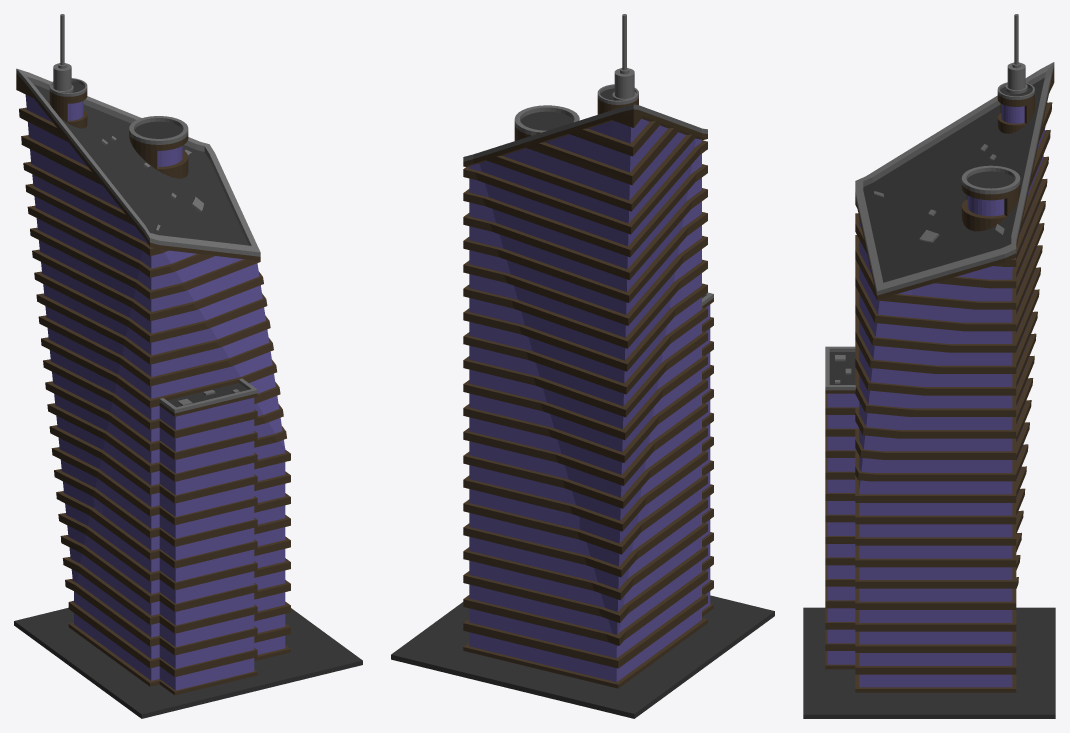
The picture shows the model from 3 angles, left to right: view 1: azimuth 30°, elevation 25°; view 2: azimuth 150°, elevation 25°; view 3: azimuth 270°, elevation 25°; orthographic projection. The views are drawn at different scales.
Visible parts, largest first — view 1: Cube.020, Floor.013; view 2: Cube.020, Floor.013; view 3: Cube.020, Floor.013.
Part boxes in pixels (x1,y1,x2,y2): Cube.020: (16, 14, 290, 695); Floor.013: (14, 607, 362, 718); Cube.020: (463, 14, 713, 688); Floor.013: (391, 595, 774, 718); Cube.020: (825, 14, 1054, 692); Floor.013: (803, 607, 1055, 718).
Size of the model in its own units: 800 by 2137 by 800.
